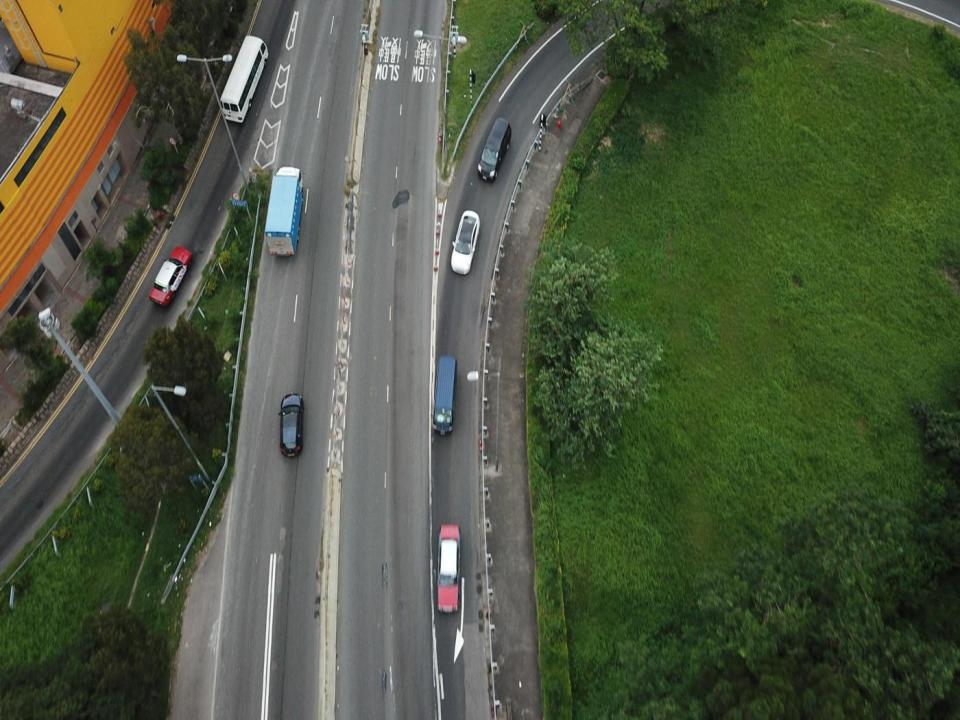bus: (220, 32, 270, 125)
car: (474, 116, 513, 186), (436, 520, 462, 616), (447, 207, 483, 275), (148, 247, 191, 302), (276, 392, 305, 458)
truck: (266, 165, 306, 258)
van: (433, 352, 460, 439)
